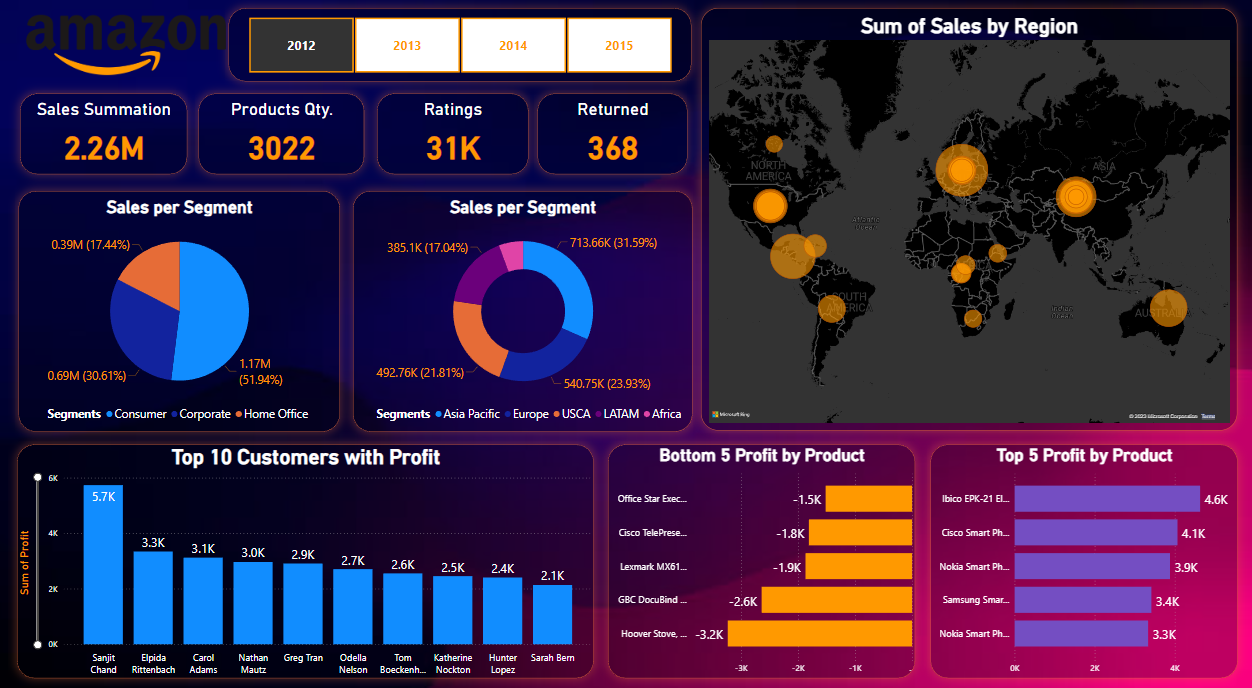

What the dashboard file says about the page in this screenshot:
{"tool":"powerbi","page":{"name":"Dash 2 Formating","canvas":[2150,1200],"ordinal":1},"visuals":[{"type":"slicer","title":"Year Wise Amazon Analytical Dashboard","fields":{"Values":["Orders.Year"]},"box":[382.5,15,802.5,127.5],"z":0},{"type":"card","title":"Sales Summation","fields":{"Values":["Orders.Sales"]},"box":[21.1,163.5,290,140],"z":1000},{"type":"card","title":"Products Qty.","fields":{"Values":["Orders.Product ID"]},"box":[331.1,163.5,287.5,140],"z":2000},{"type":"card","title":"Ratings","fields":{"Values":["Orders.Quantity"]},"box":[638.6,163.5,262.5,140],"z":3000},{"type":"card","title":"Returned","fields":{"Values":["Orders.Ship Date"]},"box":[918.6,163.2,260,140],"z":4000},{"type":"image","box":[27,2.7,356.8,154.1],"z":5000},{"type":"pieChart","title":"Sales per Segment","fields":{"Category":["Orders.Segment"],"Y":["Orders.Sales"]},"box":[17.1,333,557.1,417.1],"z":6000},{"type":"donutChart","title":"Sales per Segment","fields":{"Y":["Orders.Sales"],"Category":["Orders.Market"]},"box":[597.1,333,588.6,417.1],"z":7000},{"type":"columnChart","title":"Top 10 Customers with Profit","fields":{"Category":["Orders.Customer Name"],"Y":["Orders.Profit"]},"box":[16.2,773,1000,405.4],"z":8000},{"type":"clusteredBarChart","title":"Bottom 5 Profit by Product","fields":{"Y":["Orders.Profit"],"Category":["Orders.Product Name"]},"box":[1040.5,773,532.4,405.4],"z":9000},{"type":"clusteredBarChart","title":"Top 5 Profit by Product","fields":{"Category":["Orders.Product Name"],"Y":["Orders.Profit"]},"box":[1600,773,532.4,405.4],"z":10000},{"type":"map","fields":{"Category":["Orders.Region"],"Size":["Orders.Sales"]},"box":[1202.7,16.2,929.7,732.4],"z":11000}]}

Visuals, with their boxes in screenshot pixels (x1, y1, x2, y2), scaled from the page's 2150x1200 canvas onto the 1252x688 screenshot:
"Year Wise Amazon Analytical Dashboard" slicer: x1=223, y1=9, x2=690, y2=82
"Sales Summation" card: x1=12, y1=94, x2=181, y2=174
"Products Qty." card: x1=193, y1=94, x2=360, y2=174
"Ratings" card: x1=372, y1=94, x2=525, y2=174
"Returned" card: x1=535, y1=94, x2=686, y2=174
image: x1=16, y1=2, x2=223, y2=90
"Sales per Segment" pieChart: x1=10, y1=191, x2=334, y2=430
"Sales per Segment" donutChart: x1=348, y1=191, x2=690, y2=430
"Top 10 Customers with Profit" columnChart: x1=9, y1=443, x2=592, y2=676
"Bottom 5 Profit by Product" clusteredBarChart: x1=606, y1=443, x2=916, y2=676
"Top 5 Profit by Product" clusteredBarChart: x1=932, y1=443, x2=1242, y2=676
map - Orders.Region x Orders.Sales: x1=700, y1=9, x2=1242, y2=429
